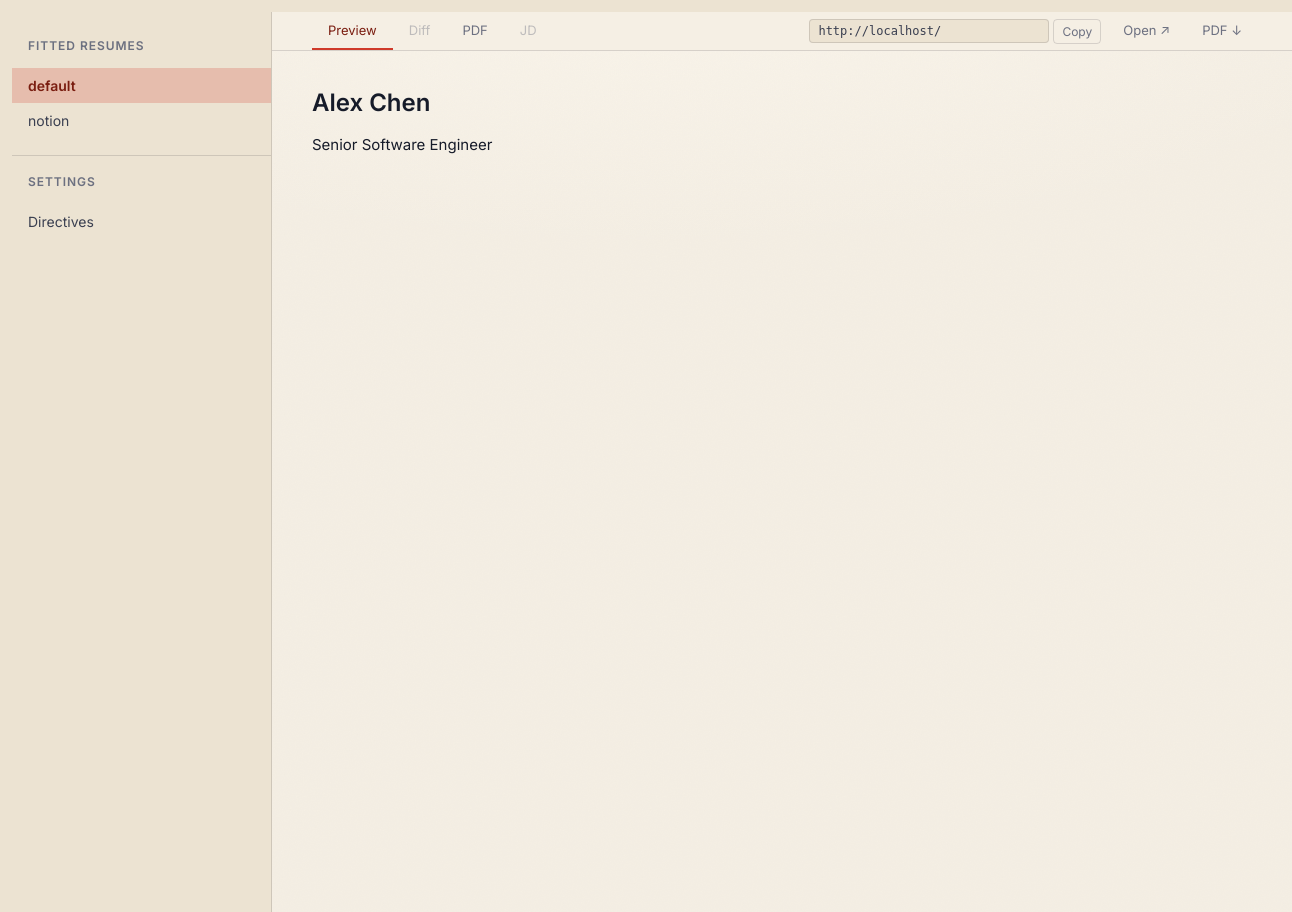
Test case: Dashboard › switches to another resume when sidebar item is clicked
The width and height of the screenshot is (1292, 912).
What coordinates should you click on to do the following:
click the button "notion"
I would click on:
 (142, 121)
Its box is 12,103 -> 271,139.
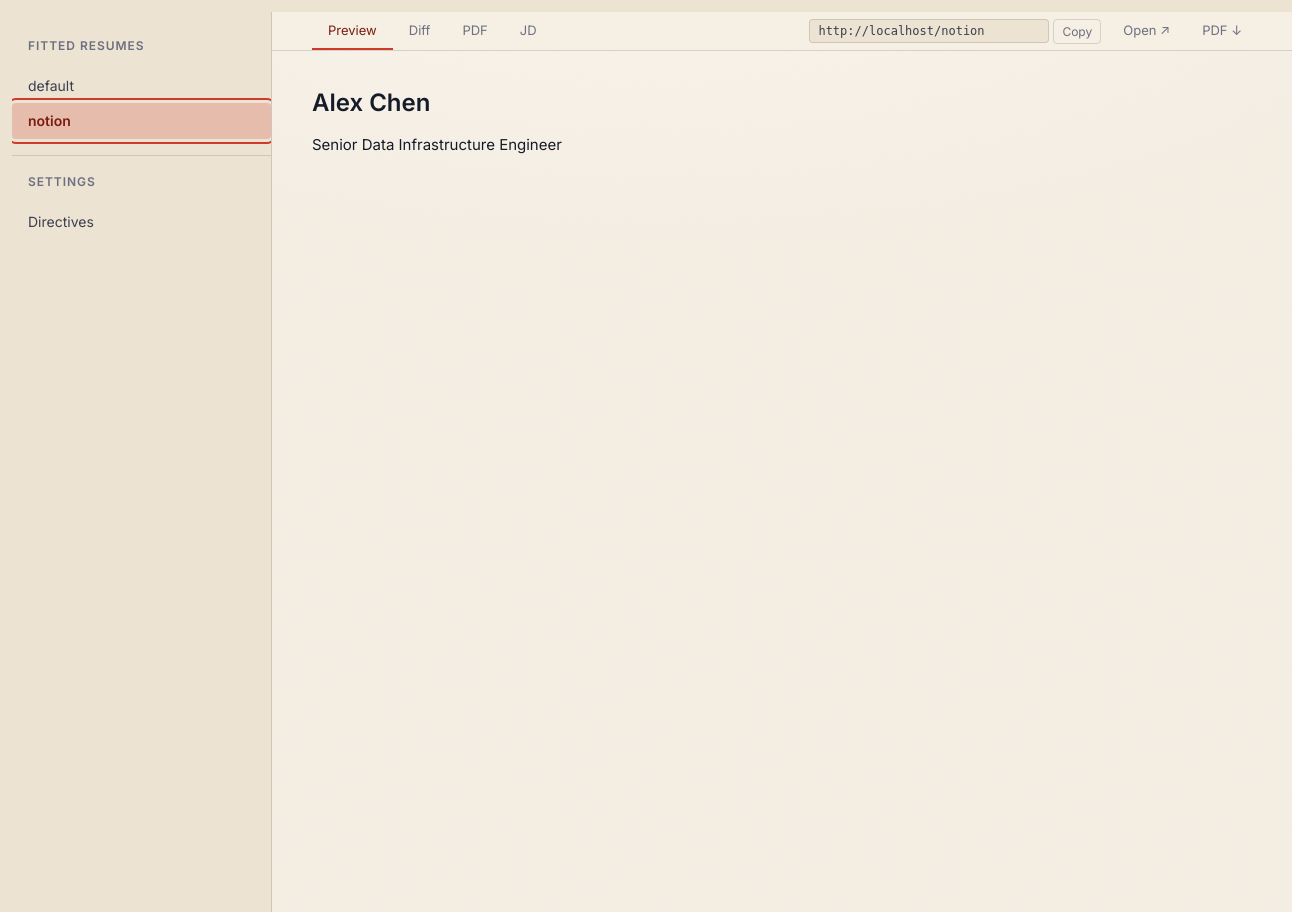
Expected: the text "Senior Data Infrastructure Engineer" is shown, 312,135 -> 562,154
